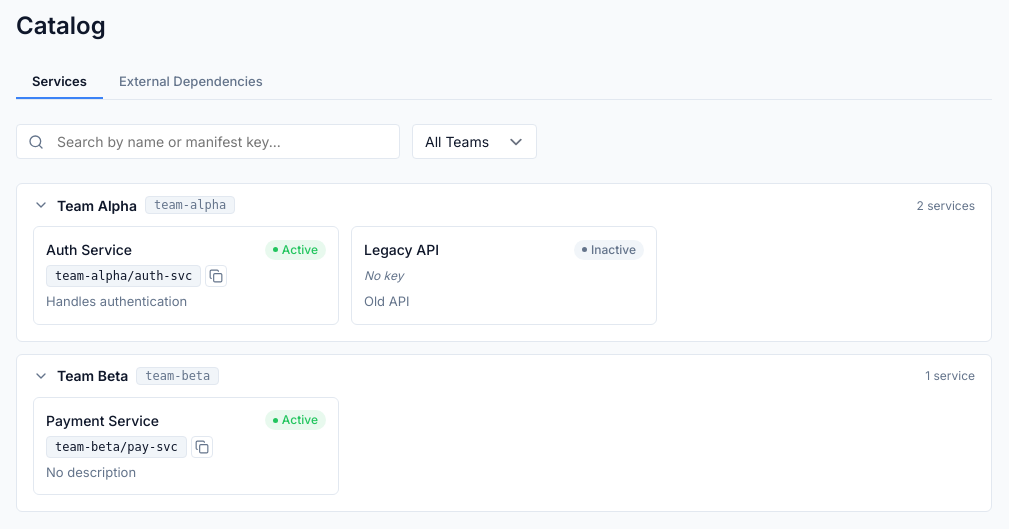
Scenario: ServiceCatalog › should filter by search query on name
Expected: the text "Auth Service" is shown, [46,239,132,260]
In the field with placeholder "Search by name or manifest key...": [208, 142] box [16,124,400,159], type "auth"
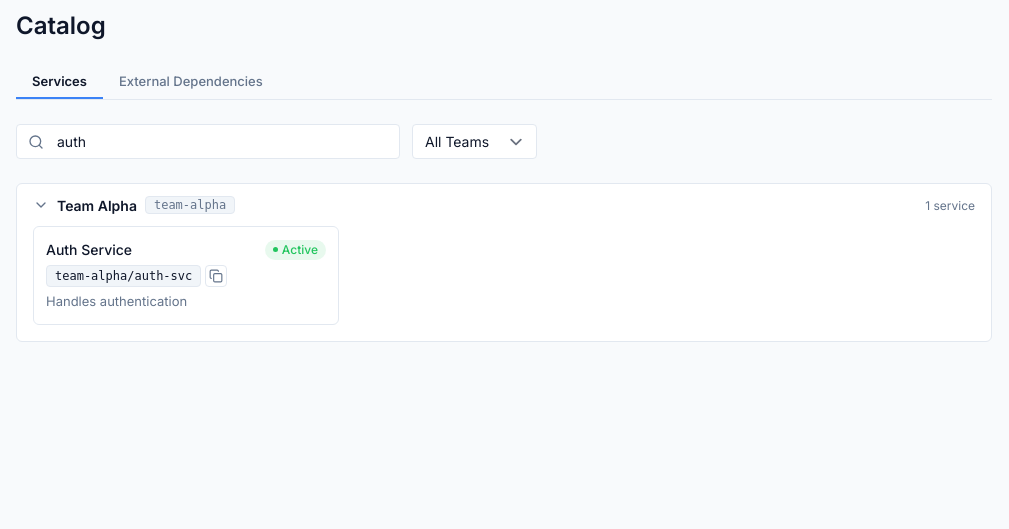
Expected: the text "Auth Service" is shown, [46,239,132,260]
Now the text "Payment Service" is gone
Now the text "Legacy API" is gone
